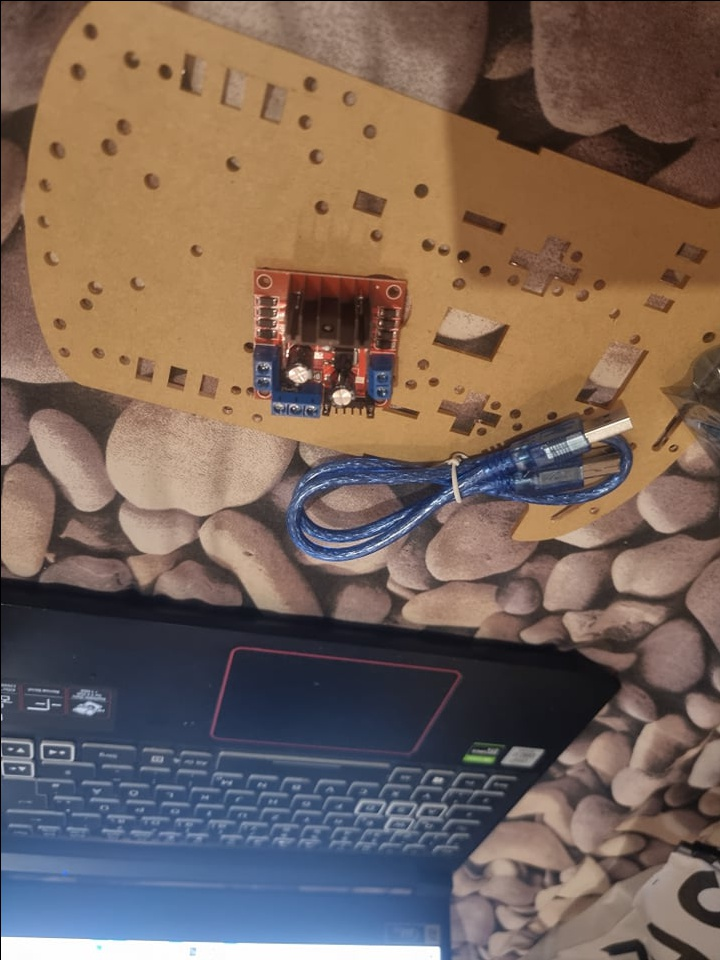MOTOR: (248, 265, 411, 417)
